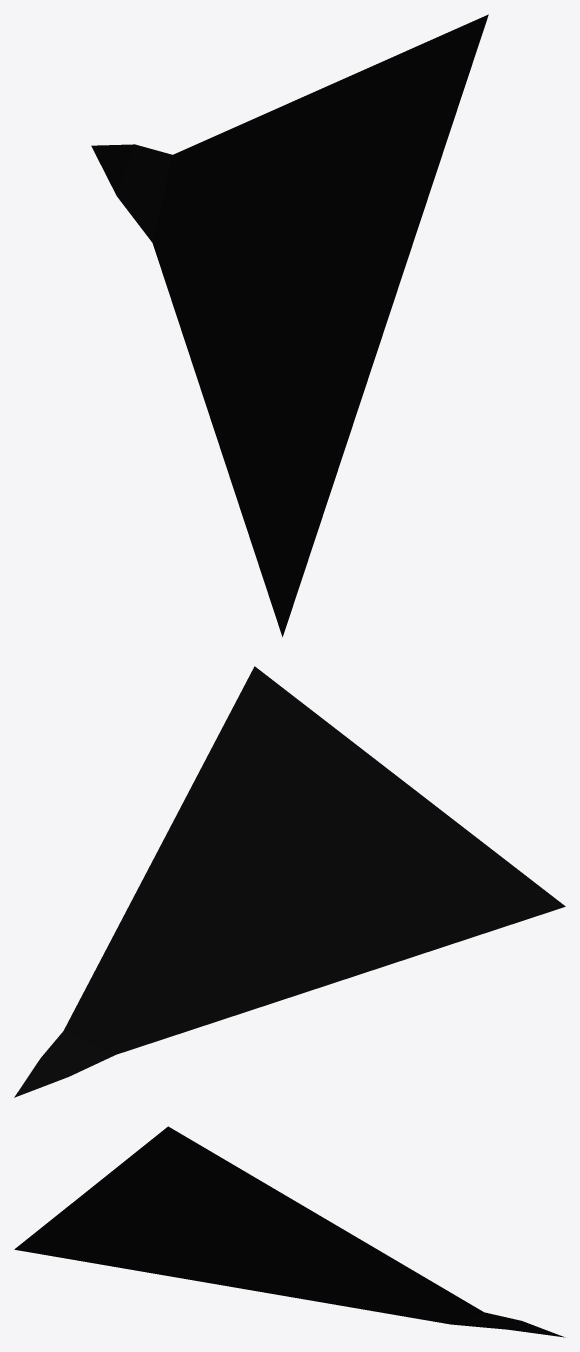
3 renders of one model, top to bottom at view 1: azimuth 30°, elevation 25°; view 2: azimuth 150°, elevation 25°; view 3: azimuth 270°, elevation 25°, orthographic. The views are drawn at different scales.
Bounding box in the file's own units: 2.12 × 2.38 × 5.63.
Materials: 1 (1 with a texture image).
